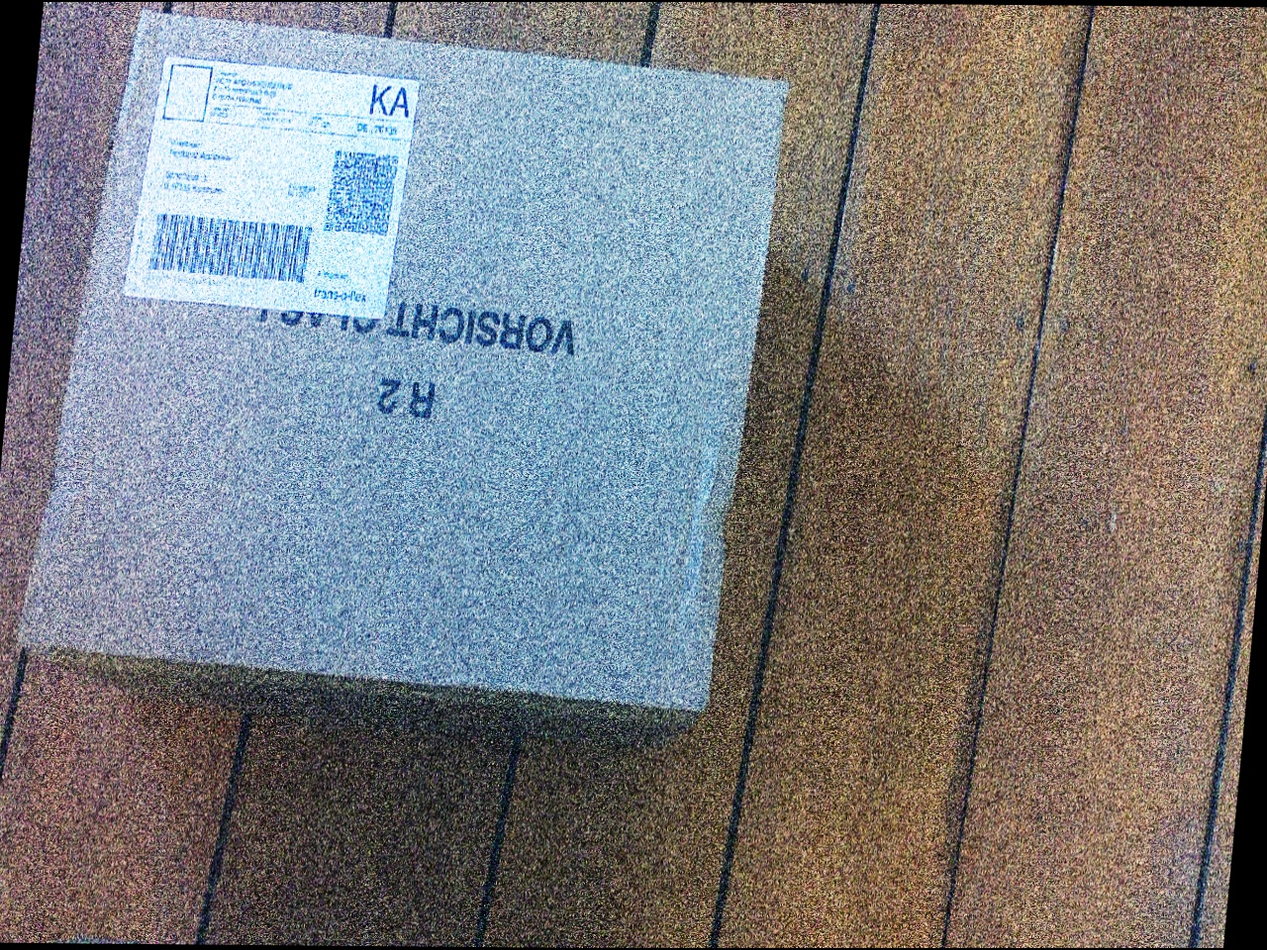good-parcel: (26, 0, 795, 745)
